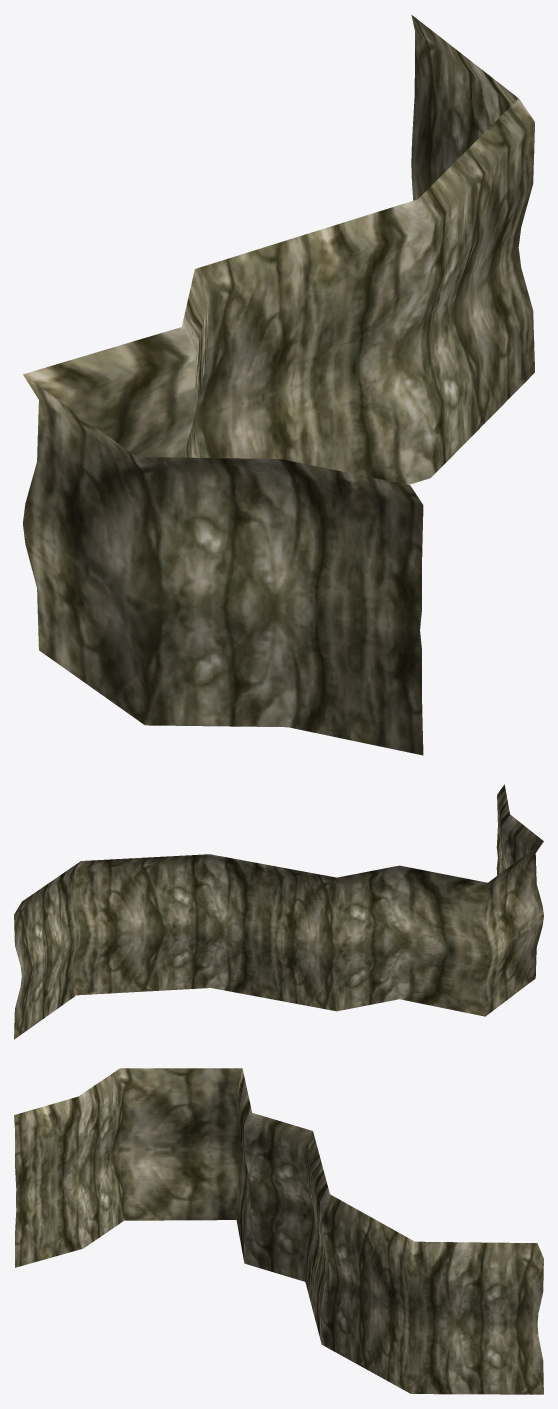
File: CB_NEWPLAYSURFACE_CB_PLAYSURFACE43.fbx
3 renders of one model, top to bottom at view 1: azimuth 30°, elevation 25°; view 2: azimuth 150°, elevation 25°; view 3: azimuth 270°, elevation 25°, orthographic. The views are drawn at different scales.
Parts seen in each view (by area): view 1: CB_NEWPLAYSURFACE_CB_PLAYSURFACE43; view 2: CB_NEWPLAYSURFACE_CB_PLAYSURFACE43; view 3: CB_NEWPLAYSURFACE_CB_PLAYSURFACE43.
Part boxes in pixels (box(x1,y1,x2,y2)): CB_NEWPLAYSURFACE_CB_PLAYSURFACE43: box(23, 14, 534, 755); CB_NEWPLAYSURFACE_CB_PLAYSURFACE43: box(14, 784, 543, 1039); CB_NEWPLAYSURFACE_CB_PLAYSURFACE43: box(14, 1068, 543, 1394).
Size of the model in its own units: 187882 by 73541 by 237125.
Materials: 1 (1 with a texture image).
